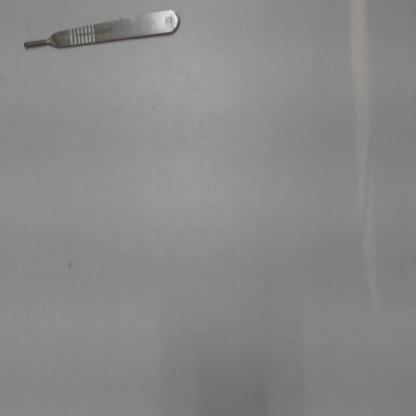No.3 BP Handle: (18, 8, 182, 60)
